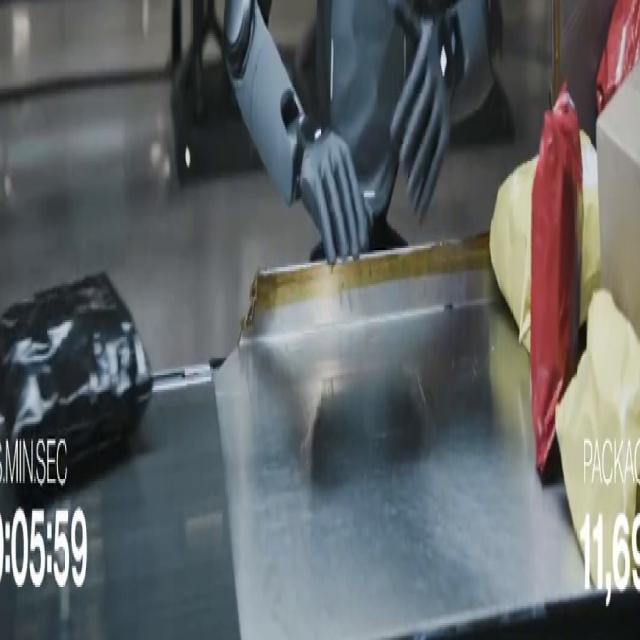package: (0, 274, 152, 466), (556, 291, 639, 587), (531, 87, 582, 476), (598, 66, 639, 334), (490, 157, 537, 351), (597, 0, 639, 114)
